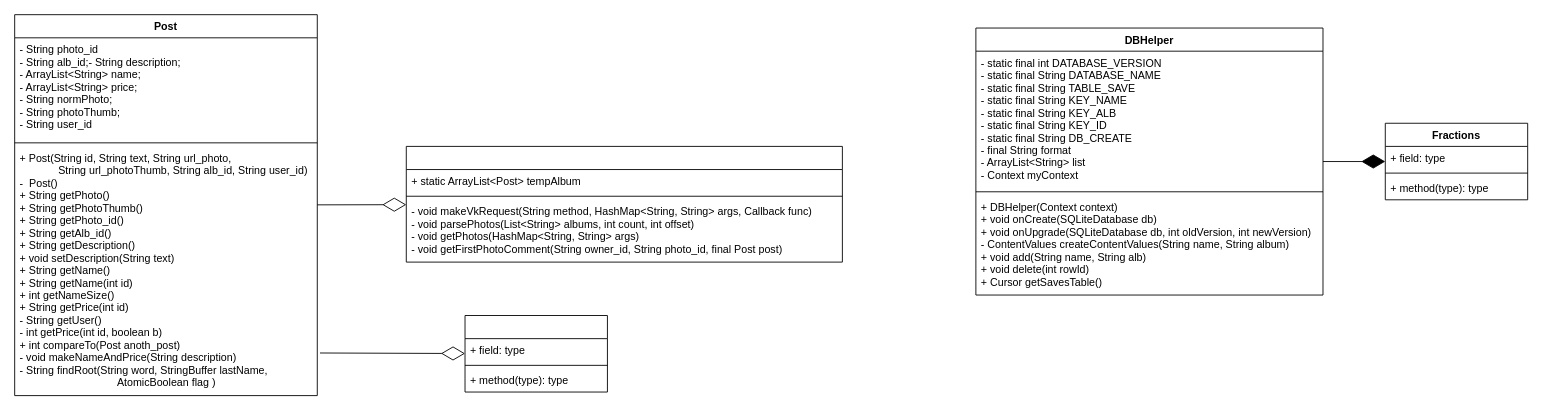
Some shapes in this 1542 by 410 pixel diagram are drawn without their labels. The box of each missing label's shape, as (x1, y1, x2, y2) in pixels:
MainActivity: (405, 146, 842, 262)
ProductActivity: (464, 315, 607, 392)
